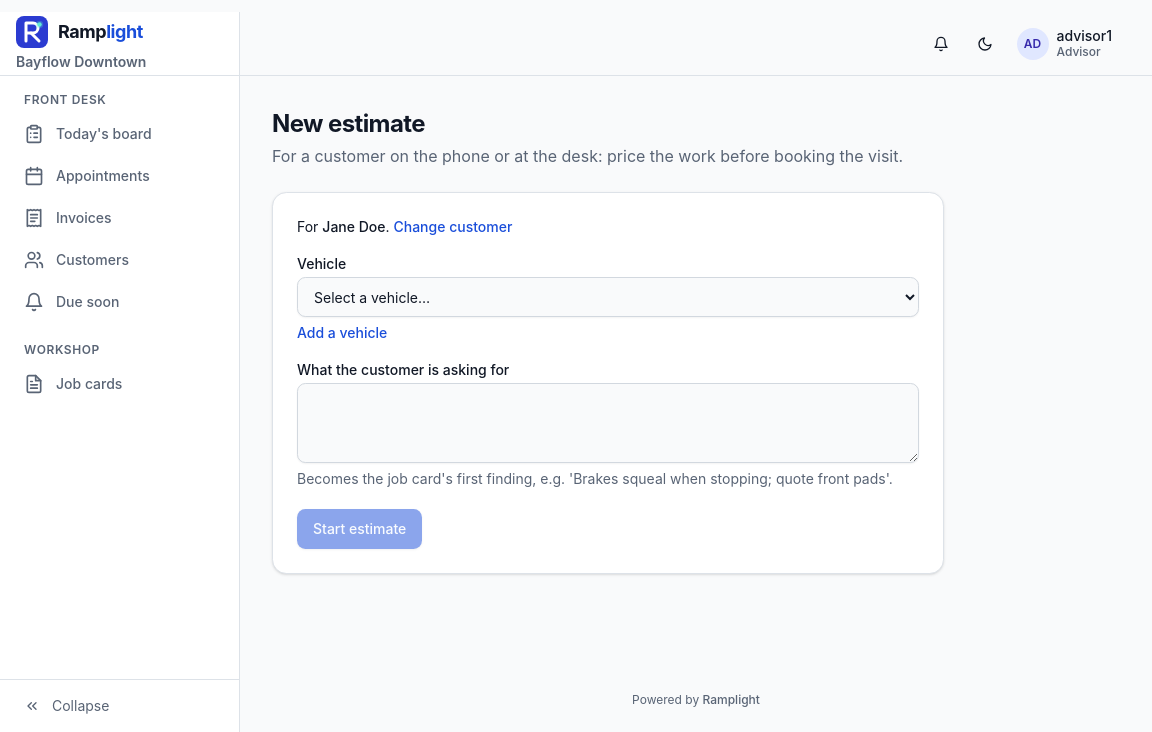
Test: quick estimates › starts an estimate for a customer and opens its job card
The width and height of the screenshot is (1152, 732).
Select "BFL 1234 — 2021 Toyota Corolla" in the dropdown labelled "Vehicle". click: (608, 297)
box: [297,277,919,317]
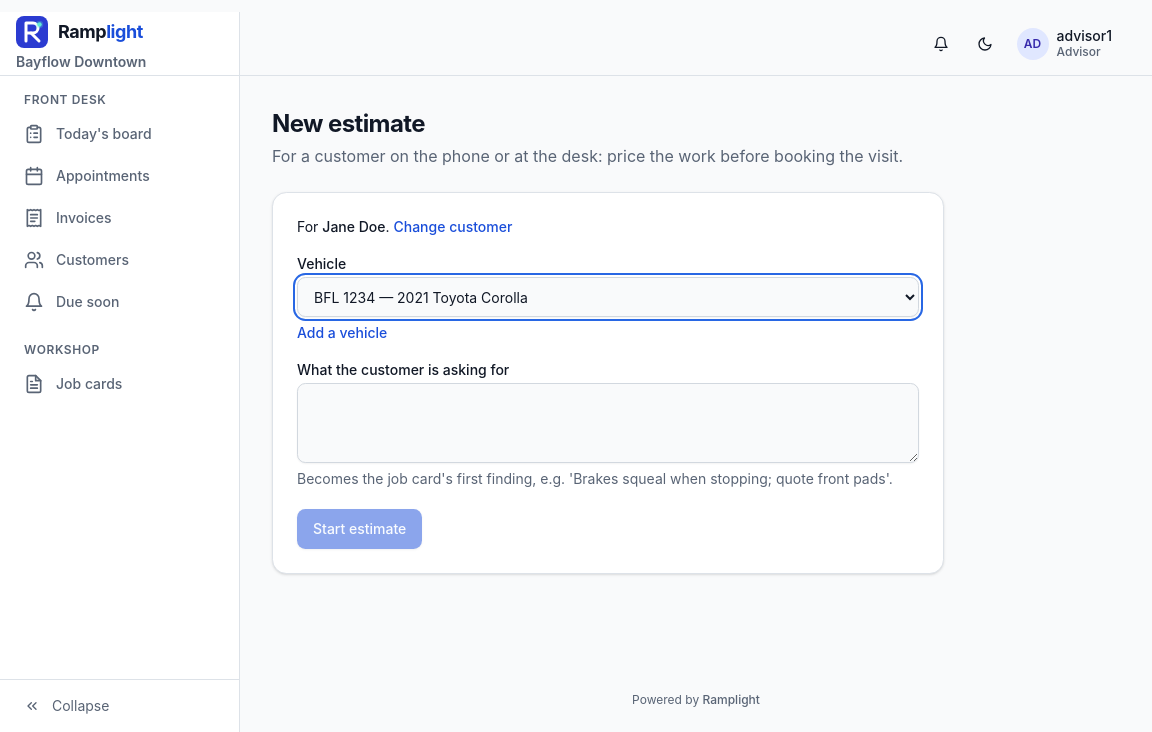
Type "Brakes squeal" into the text box labelled "What the customer is asking for". click: (608, 423)
box: [297,383,919,463]
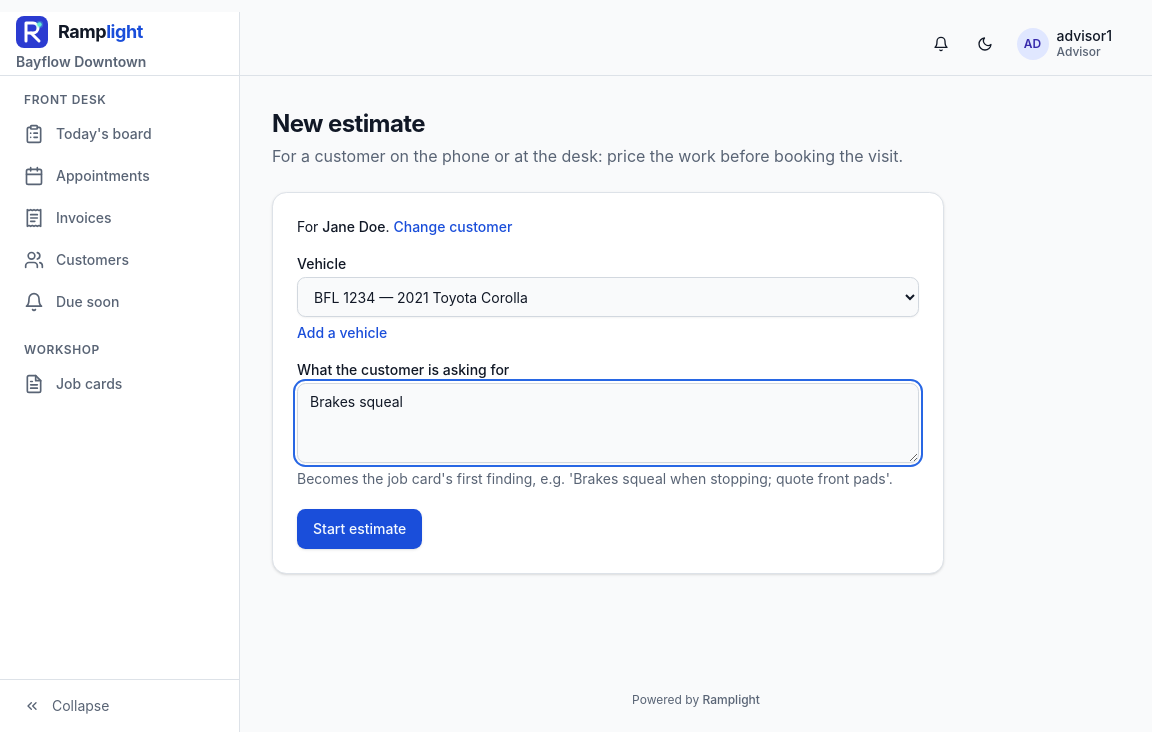
Click the button "Start estimate". click: (360, 529)
box: [297,509,422,549]
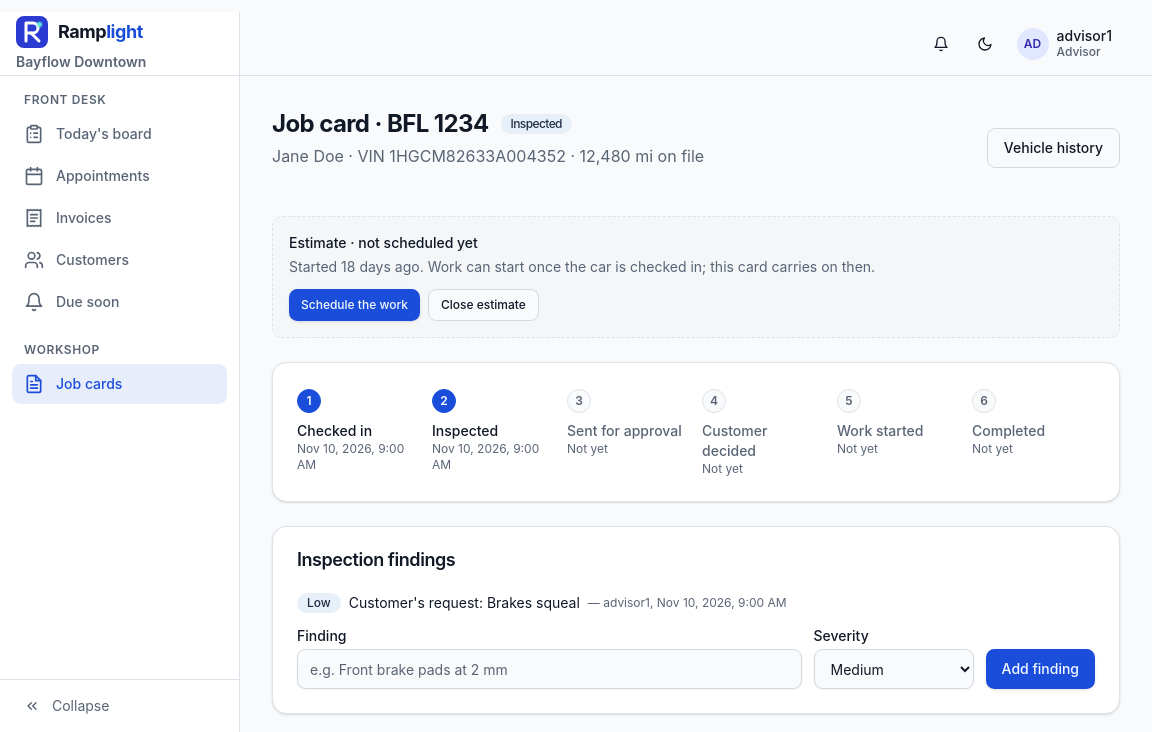
Result: the text "Estimate · not scheduled yet" is shown at [289,234,478,251]
Result: the text "Customer's request: Brakes squeal" is shown at [349,593,580,613]
